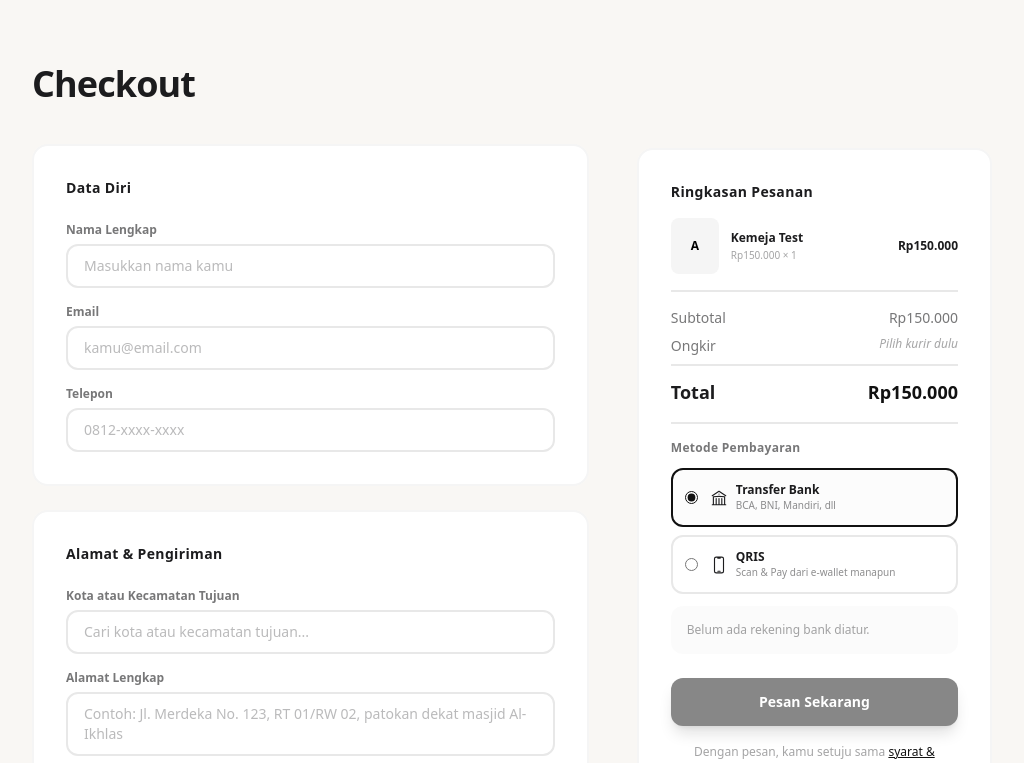
Test: CheckoutPage — Autocomplete Search › menampilkan pesan tidak ditemukan jika results kosong
This screenshot has width=1024, height=763.
Type "xyznotexist" into the field with placeholder "Cari kota atau kecamatan tujuan..." at (310, 632), box [66,610,555,654]
Wait 400 ms
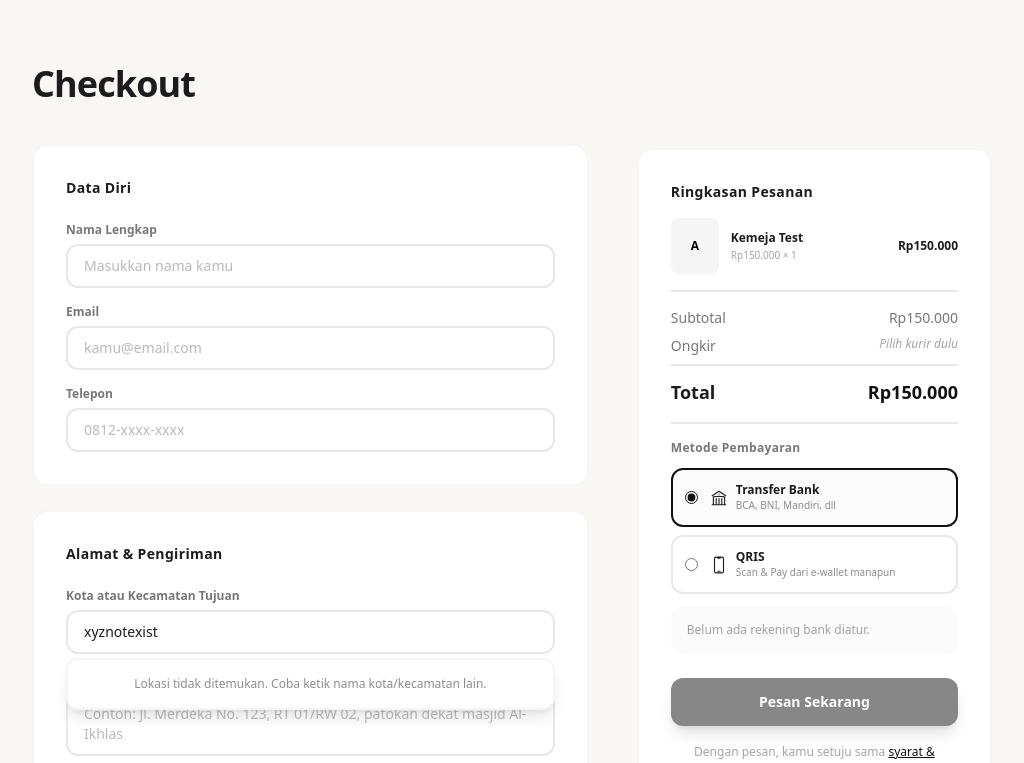
Expected: the text "Lokasi tidak ditemukan" is shown, [134,675,486,692]
